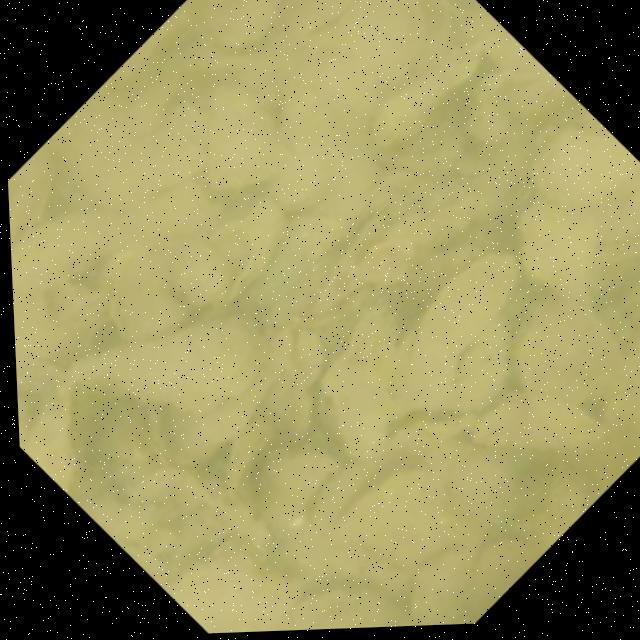Oyster-Closed: (21, 384, 94, 488)
Oyster-Indeterminate: (61, 315, 267, 411), (393, 259, 514, 413), (168, 323, 301, 454), (361, 43, 481, 154), (514, 288, 627, 405), (163, 556, 303, 633), (11, 207, 117, 286), (335, 0, 429, 88), (533, 130, 640, 207), (521, 202, 604, 299), (110, 242, 192, 339), (207, 91, 284, 189), (471, 395, 593, 453), (281, 582, 416, 631), (257, 450, 345, 521), (446, 448, 528, 523), (237, 190, 289, 292), (451, 328, 510, 411), (170, 239, 233, 312), (411, 550, 471, 625), (8, 147, 53, 240), (263, 375, 311, 447), (476, 539, 520, 604)
